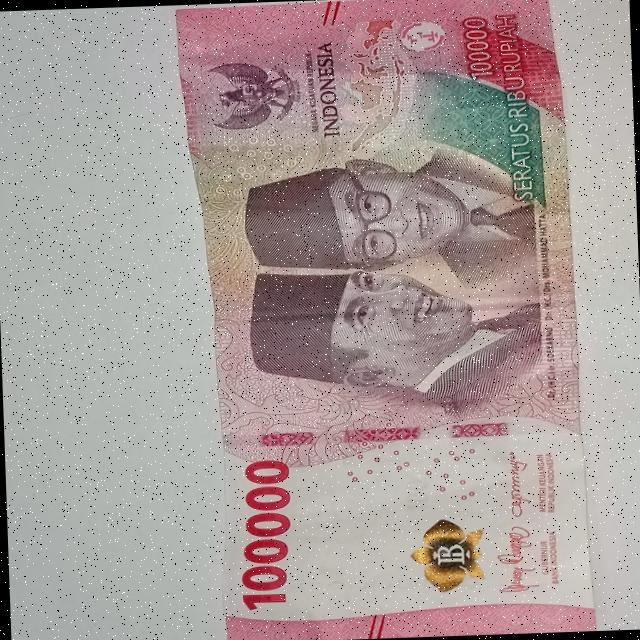100K: (170, 0, 606, 640)
